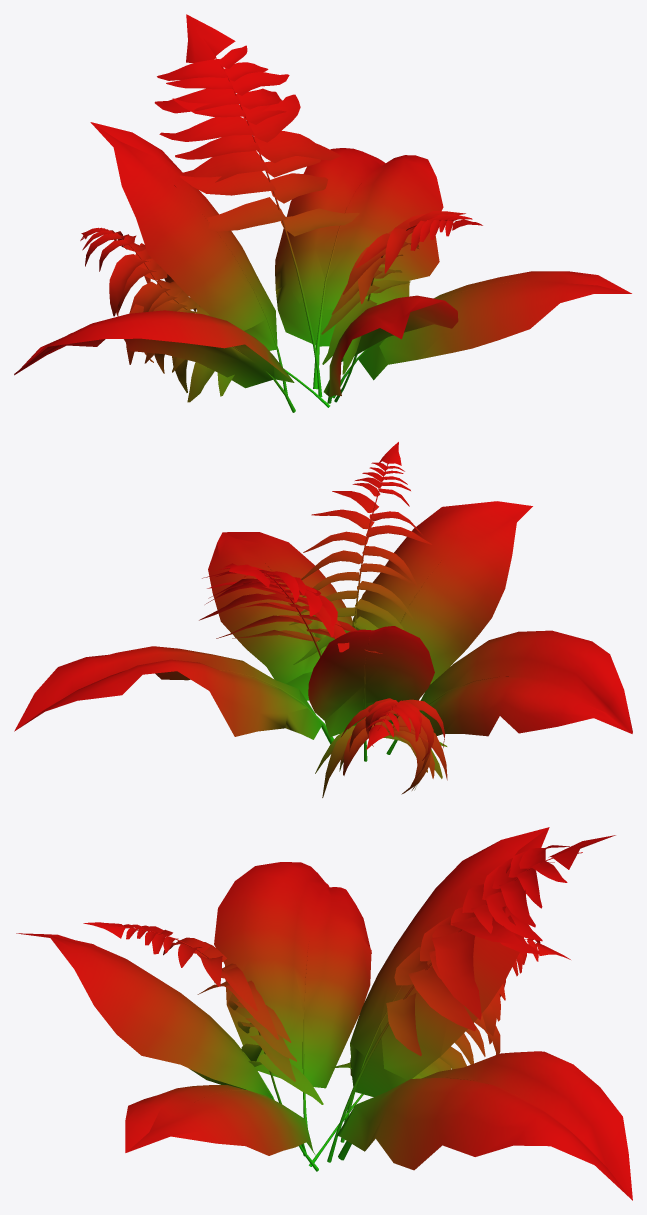
Rendered from Var2_LOD0.fbx.
3 renders of one model, top to bottom at view 1: azimuth 30°, elevation 25°; view 2: azimuth 150°, elevation 25°; view 3: azimuth 270°, elevation 25°, orthographic. The views are drawn at different scales.
Parts seen in each view (by area): view 1: _bkm8_Var2_LOD0; view 2: _bkm8_Var2_LOD0; view 3: _bkm8_Var2_LOD0.
Boxes of the visible parts, bbox=[...] form: _bkm8_Var2_LOD0: bbox=[14, 14, 631, 412]; _bkm8_Var2_LOD0: bbox=[14, 442, 632, 797]; _bkm8_Var2_LOD0: bbox=[16, 827, 632, 1200].
Bounding box in the file's own units: 44.91 × 23.96 × 40.82.
